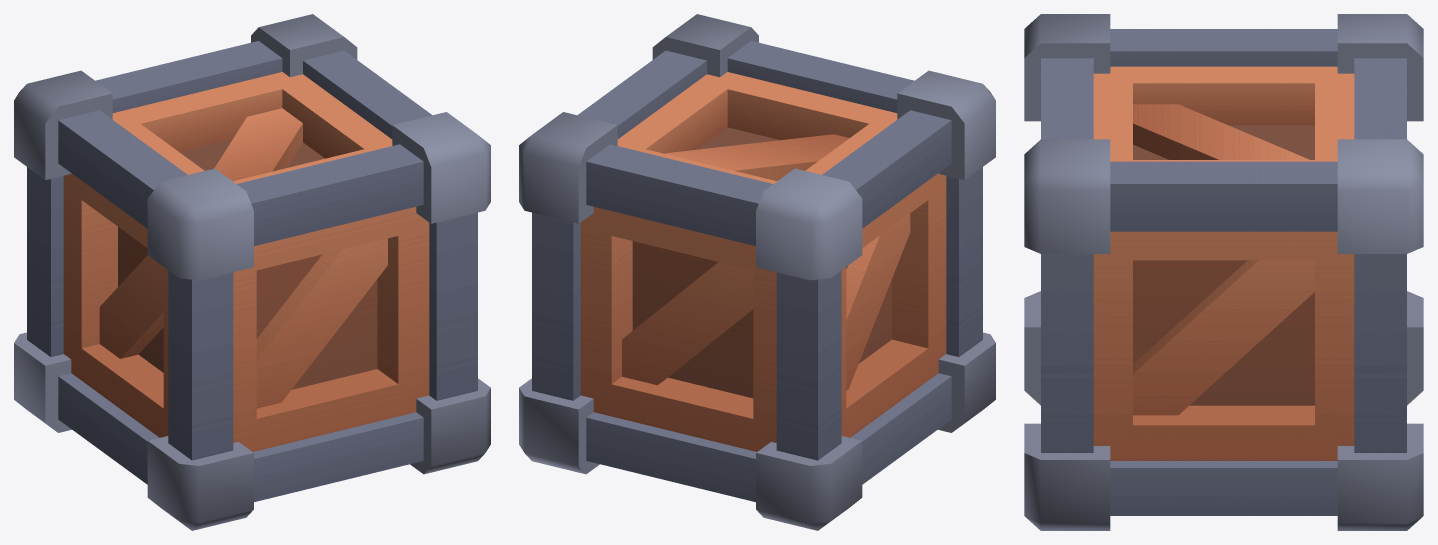
The model's file is crate-strong.glb.
3 renders of one model, left to right at view 1: azimuth 30°, elevation 25°; view 2: azimuth 150°, elevation 25°; view 3: azimuth 270°, elevation 25°, orthographic. The views are drawn at different scales.
Visible parts, largest first — view 1: crate-strong; view 2: crate-strong; view 3: crate-strong.
Boxes of the visible parts, x1,y1,x2,y2 form: crate-strong: [14, 14, 490, 530]; crate-strong: [519, 14, 995, 530]; crate-strong: [1024, 14, 1423, 530].
Bounding box in the file's own units: 0.6 × 0.6 × 0.6.
1 material, 1 textured.
